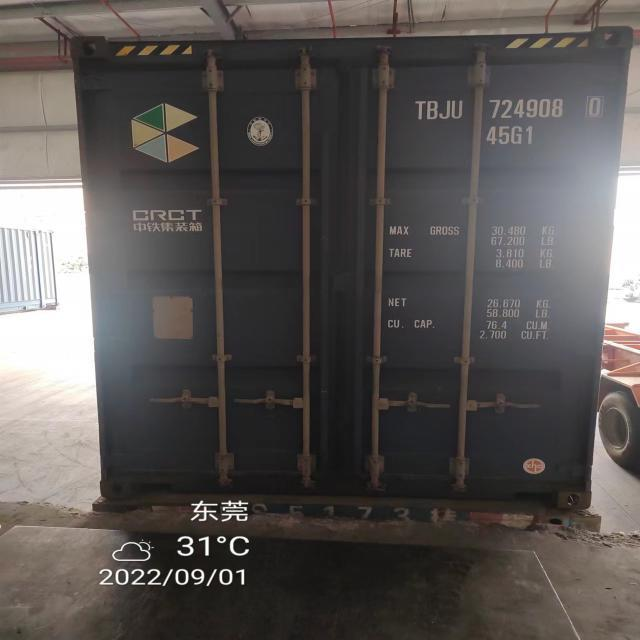ISO: (486, 126, 534, 146)
container_number: (421, 92, 604, 120)
